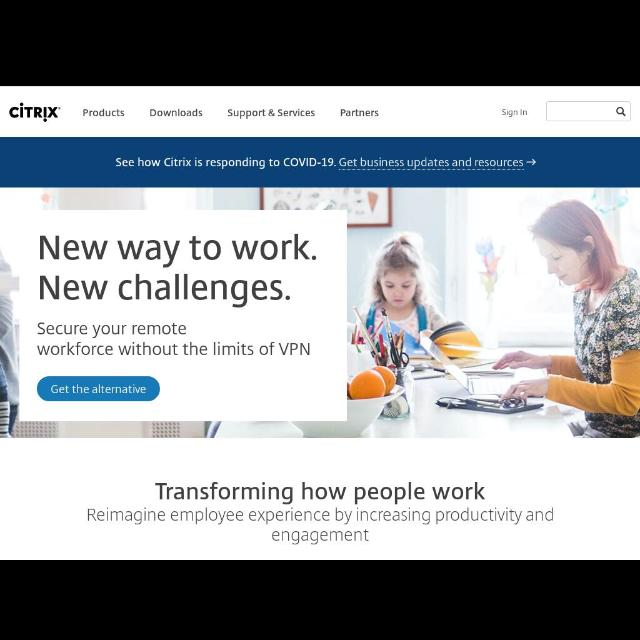icon: (526, 157, 536, 167), (616, 107, 624, 117)
image: (1, 189, 639, 439), (8, 101, 64, 123)
input: (545, 102, 631, 122)
multitab: (75, 100, 388, 132)
panel: (19, 210, 348, 422)
text: (38, 235, 318, 307), (38, 322, 310, 360), (87, 506, 556, 524), (155, 482, 488, 502), (117, 155, 526, 169), (271, 530, 371, 544), (227, 108, 315, 116), (82, 106, 126, 120), (150, 108, 202, 119), (338, 110, 379, 118), (502, 107, 528, 119)
textbutton: (37, 376, 159, 402)
